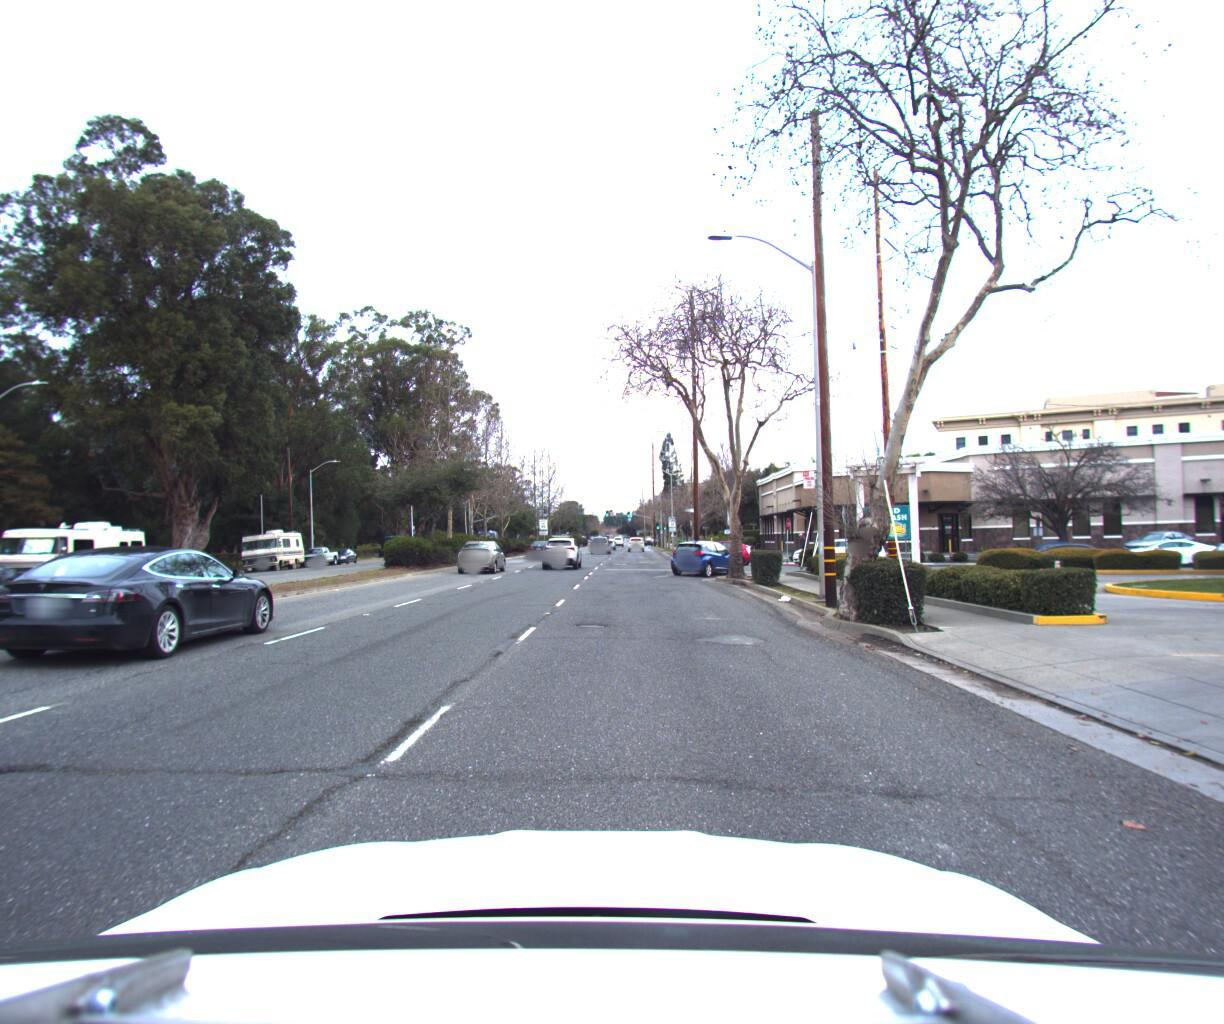car: (0, 534, 291, 668), (1117, 527, 1221, 559), (789, 527, 888, 559), (665, 531, 746, 569), (1110, 520, 1200, 549), (679, 531, 761, 559), (462, 531, 521, 566), (0, 552, 37, 599), (542, 527, 585, 562), (297, 538, 339, 561), (591, 527, 613, 545), (1222, 517, 1224, 558)
other_vehicle: (0, 515, 161, 589), (235, 519, 313, 567)
